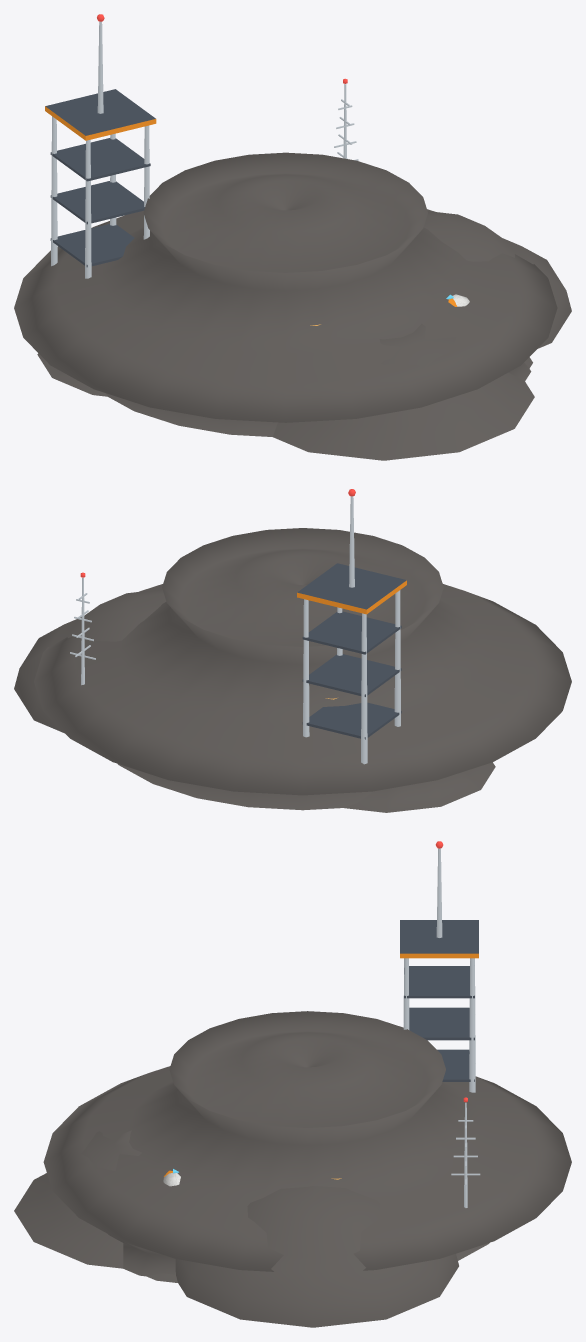
The model's file is asteroid_mining_village.glb.
The picture shows the model from 3 angles, top to bottom: view 1: azimuth 30°, elevation 25°; view 2: azimuth 150°, elevation 25°; view 3: azimuth 270°, elevation 25°; orthographic projection. The views are drawn at different scales.
Visible parts, largest first — view 1: asteroid_mining_village_LOD0; view 2: asteroid_mining_village_LOD0; view 3: asteroid_mining_village_LOD0.
Part boxes in pixels (left/top/right/bottom): asteroid_mining_village_LOD0: left=14, top=14, right=571, bottom=460; asteroid_mining_village_LOD0: left=14, top=489, right=571, bottom=812; asteroid_mining_village_LOD0: left=14, top=841, right=571, bottom=1327.
Size of what is drawn, in the model's own units: 42.97 by 25.4 by 42.36.
Materials: 3 (3 with a texture image).
